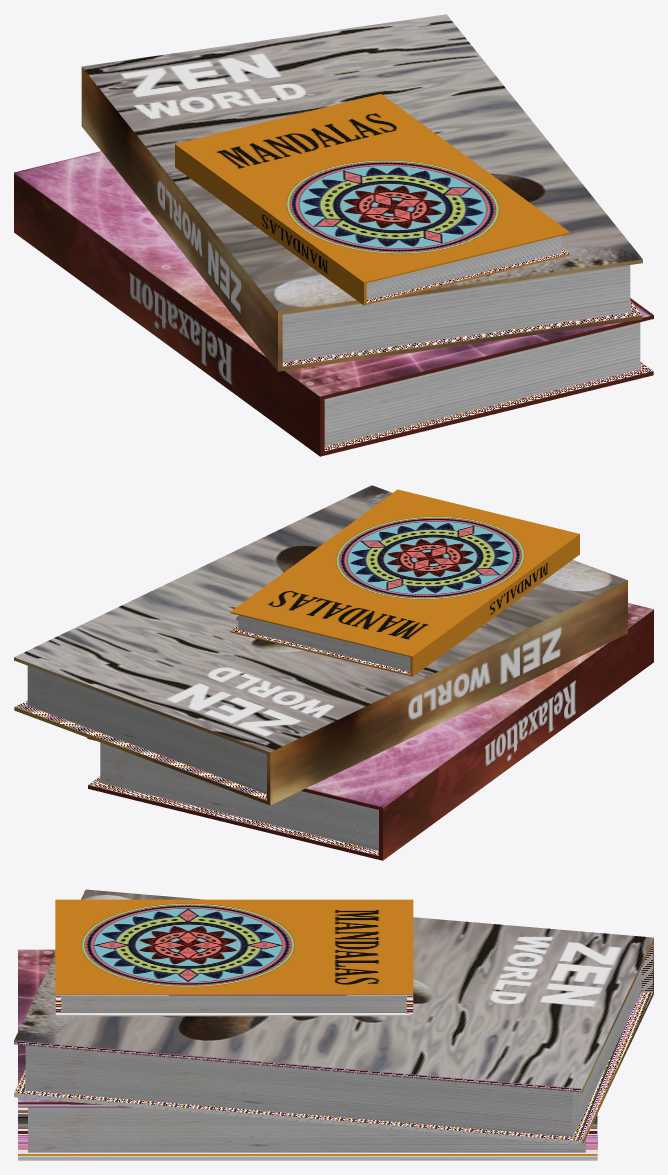
The model's file is Books 1.FBX.
3 views of the same model, one above another, from view 1: azimuth 30°, elevation 25°; view 2: azimuth 150°, elevation 25°; view 3: azimuth 270°, elevation 25° (orthographic). The views are drawn at different scales.
Visible parts, largest first — view 1: Book 2, Book 1, Book 3; view 2: Book 2, Book 3, Book 1; view 3: Book 2, Book 3, Book 1.
Part boxes in pixels (x1=…): Book 2: x1=81, y1=14, x2=642, y2=371; Book 1: x1=14, y1=151, x2=653, y2=456; Book 3: x1=175, y1=94, x2=569, y2=305; Book 2: x1=14, y1=485, x2=627, y2=805; Book 3: x1=230, y1=489, x2=579, y2=676; Book 1: x1=87, y1=603, x2=653, y2=860; Book 2: x1=14, y1=889, x2=653, y2=1145; Book 3: x1=55, y1=899, x2=413, y2=1016; Book 1: x1=18, y1=949, x2=597, y2=1160.
Bounding box in the file's own units: 23.06 × 7.36 × 31.31.
Materials: 1 (1 with a texture image).
